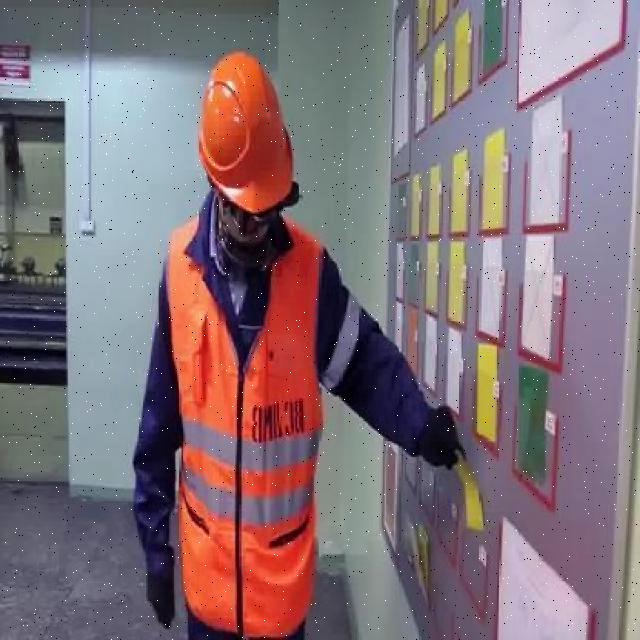Person: (132, 50, 462, 640)
Vest: (173, 216, 330, 627), (190, 46, 302, 207)
